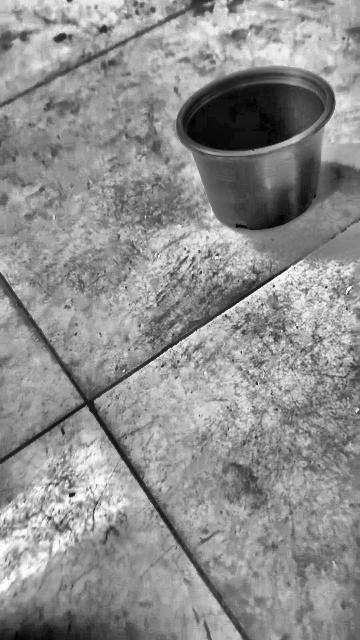pot: (175, 67, 336, 230)
